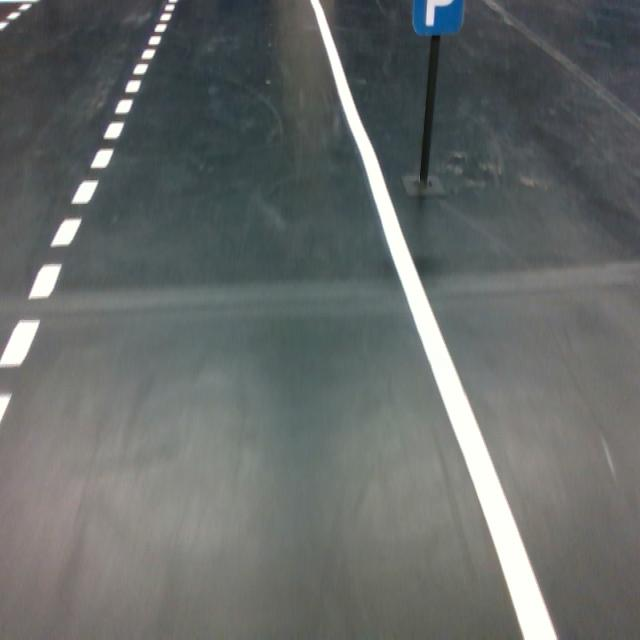parking-sign: (411, 0, 465, 36)
